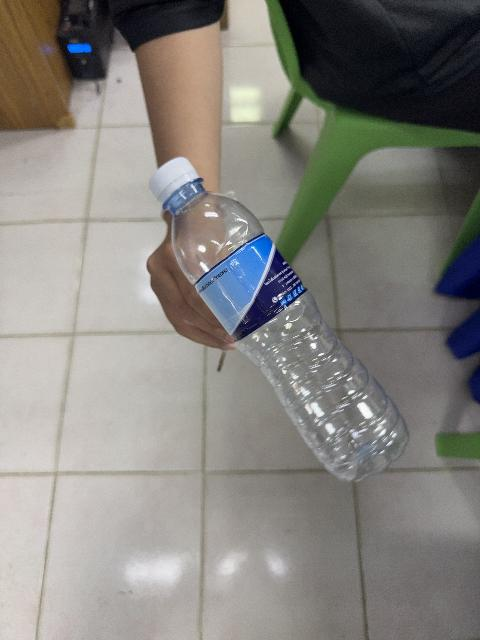bottle: (150, 158, 408, 480)
